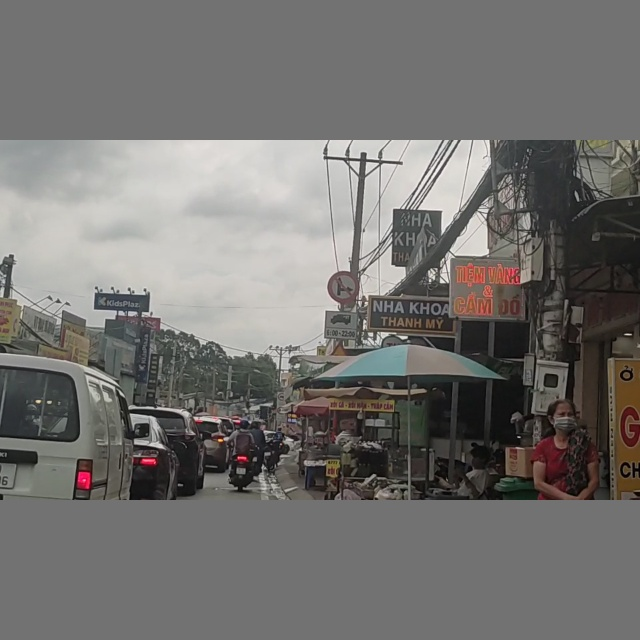P.139: (328, 271, 359, 301)
S.505a*Xe tai: (325, 312, 357, 339)
